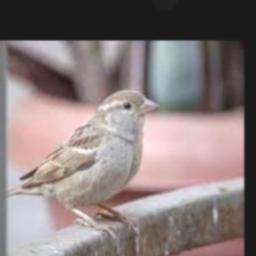Sparrow: (5, 89, 161, 238)
